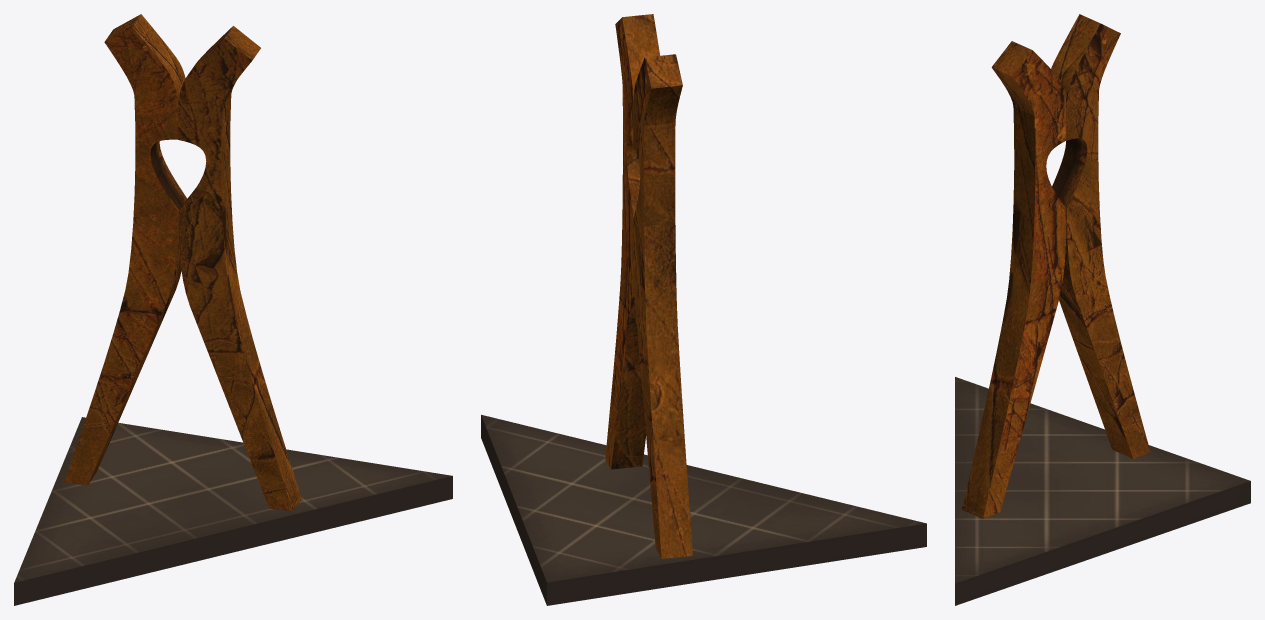
Rendered from Pamatnik.FBX.
3 views of the same model, side by side, from view 1: azimuth 30°, elevation 25°; view 2: azimuth 150°, elevation 25°; view 3: azimuth 270°, elevation 25° (orthographic). The views are drawn at different scales.
Visible parts, largest first — view 1: Line023; view 2: Line023; view 3: Line023.
Part boxes in pixels (box(x1,y1,x2,y2)): Line023: box(14, 14, 452, 605); Line023: box(481, 14, 926, 605); Line023: box(955, 14, 1250, 605).
Size of the model in its own units: 75.95 by 80.65 by 45.88.
1 material, 1 textured.
